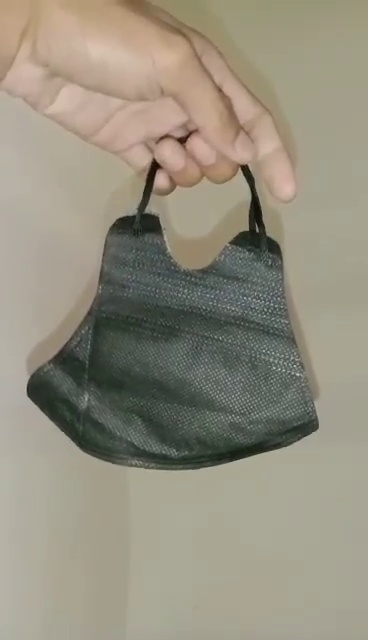facemask: (29, 133, 322, 471)
hand: (13, 5, 297, 205)
